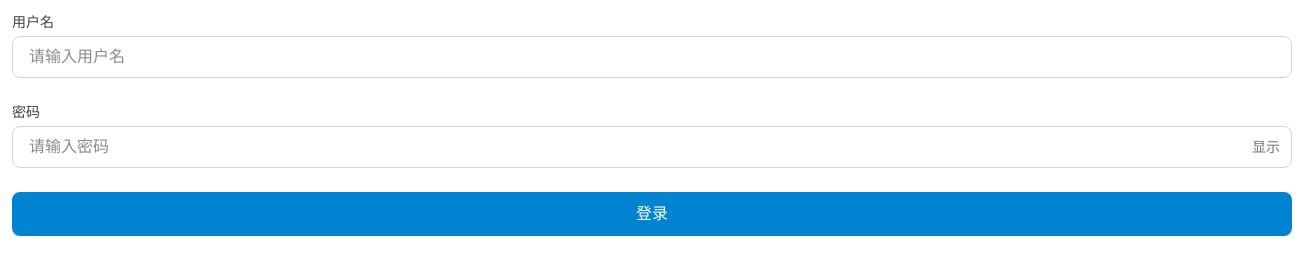
Scenario: LoginForm › should show server error message after failed login
Step 1. Type "admin" into the field labelled "用户名" → (652, 57), box [12,36,1292,78]
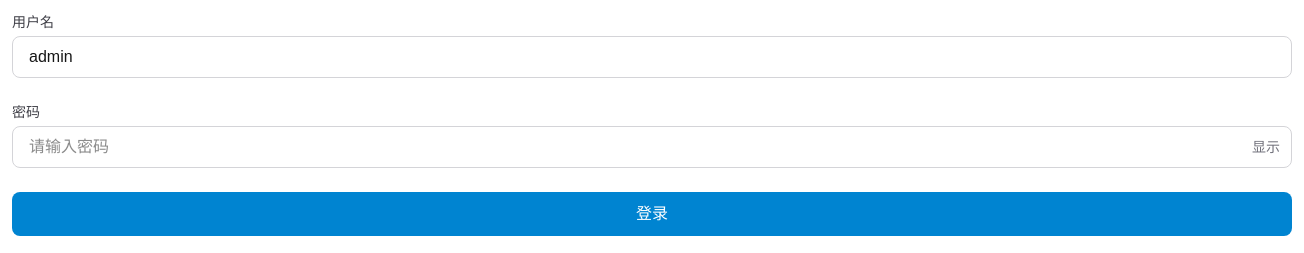
Step 2. Type "wrong-password" into the password field labelled "密码" → (652, 147), box [12,126,1292,168]
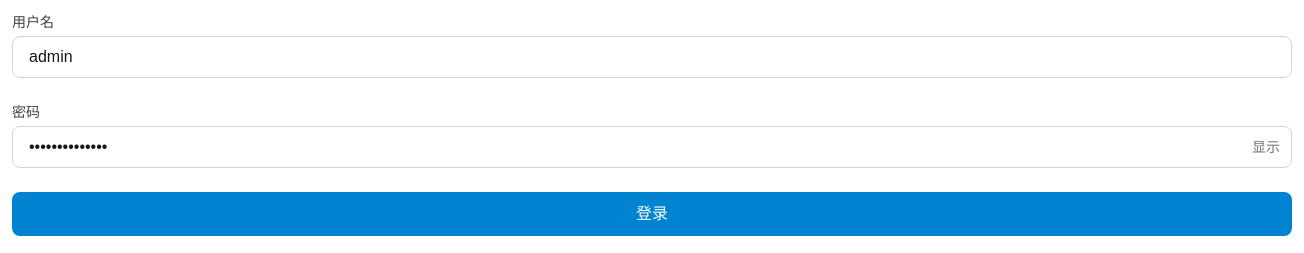
Step 3. Click the button "登录" → (652, 214), box [12,192,1292,236]
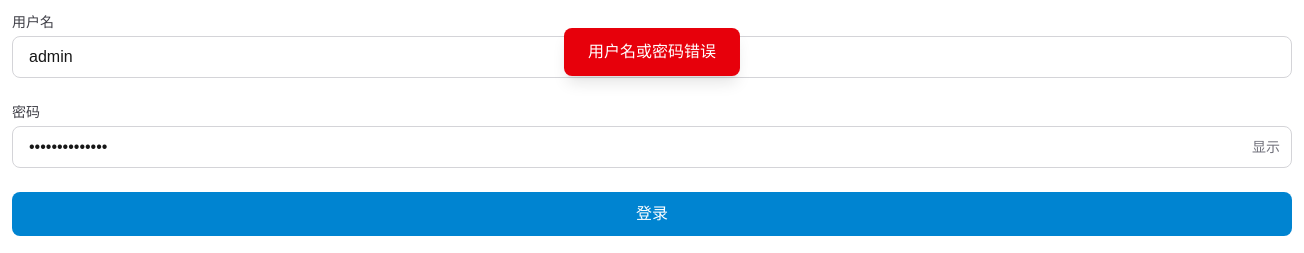
Expected: the text "用户名或密码错误" is shown, [564,28,740,76]
